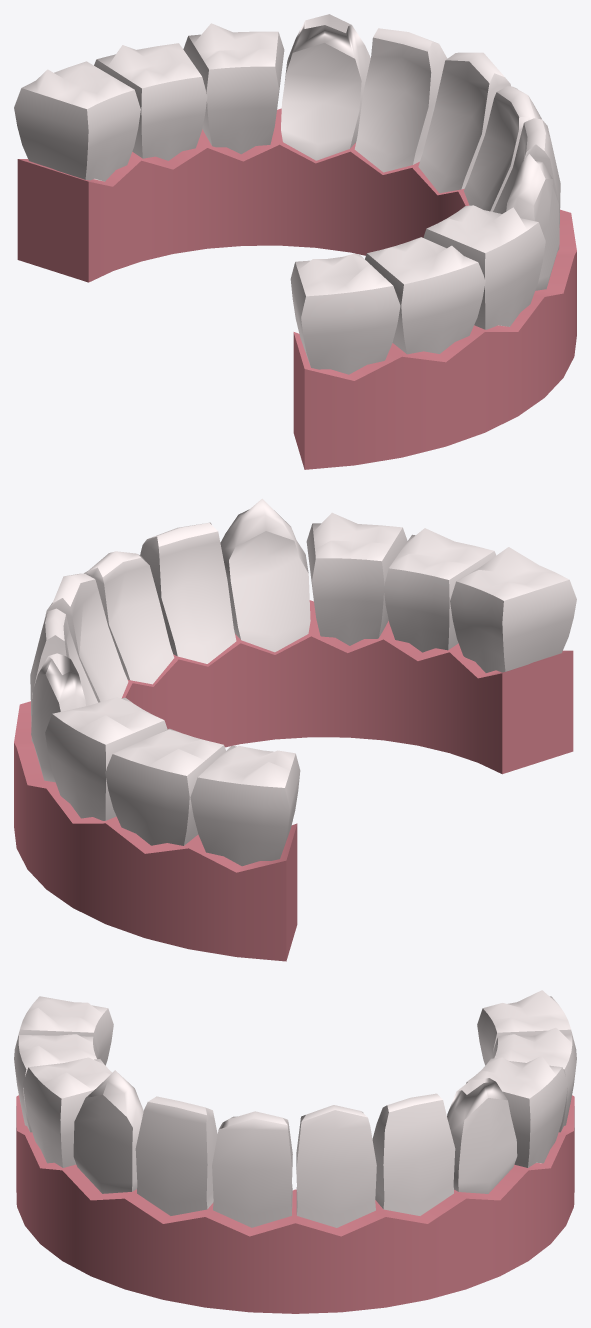
Rendered from TeethBottom.fbx.
3 renders of one model, top to bottom at view 1: azimuth 30°, elevation 25°; view 2: azimuth 150°, elevation 25°; view 3: azimuth 270°, elevation 25°, orthographic. The views are drawn at different scales.
Visible parts, largest first — view 1: Teeth; view 2: Teeth; view 3: Teeth.
Boxes of the visible parts, <box> form: Teeth: <box>14,14,576,469</box>; Teeth: <box>14,498,576,961</box>; Teeth: <box>14,990,576,1313</box>.
Bounding box in the file's own units: 15.11 × 8.38 × 21.69.
